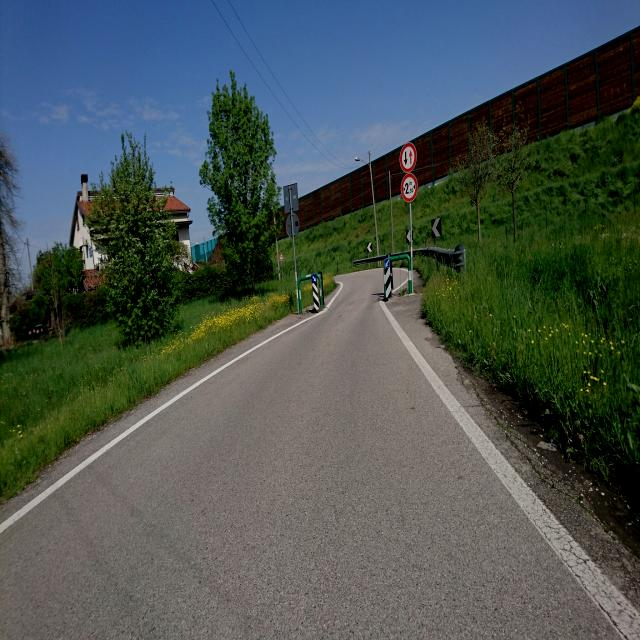car: (385, 250, 411, 268)
